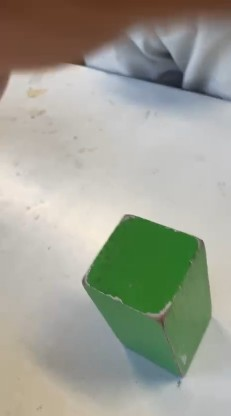green: (81, 203, 209, 380)
